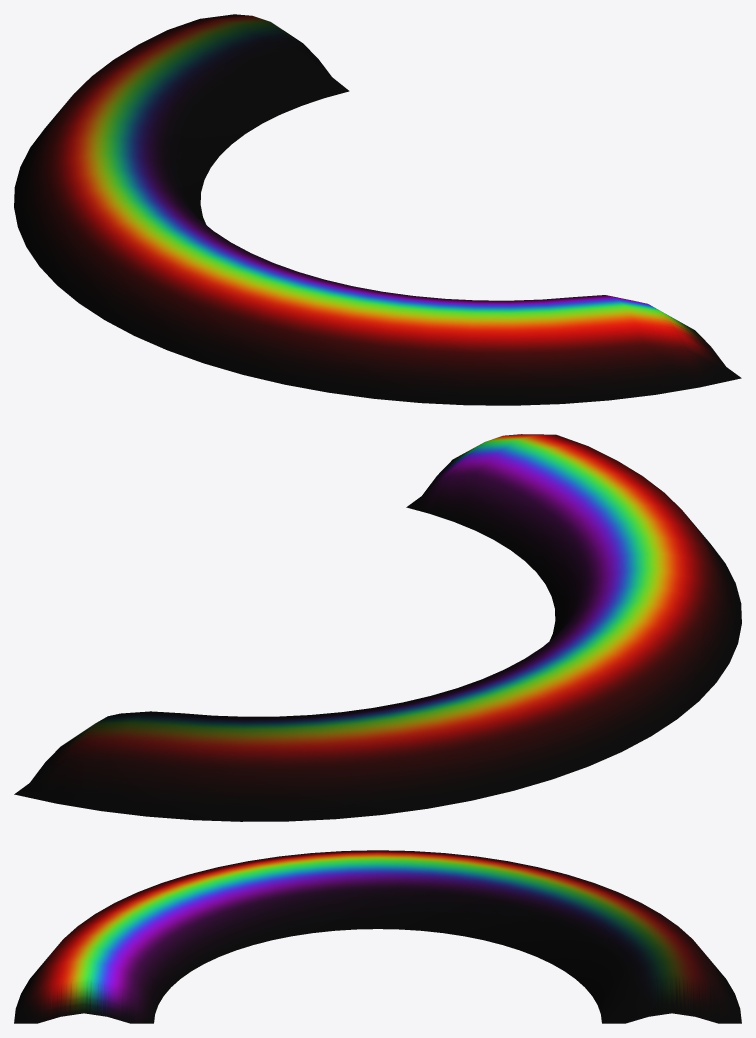
Rendered from RadM.fbx.
3 renders of one model, top to bottom at view 1: azimuth 30°, elevation 25°; view 2: azimuth 150°, elevation 25°; view 3: azimuth 270°, elevation 25°, orthographic. The views are drawn at different scales.
Parts seen in each view (by area): view 1: Plane001; view 2: Plane001; view 3: Plane001.
Boxes of the visible parts, x1,y1,x2,y2 form: Plane001: (14,14,741,405); Plane001: (14,434,741,821); Plane001: (14,850,741,1023).
Bounding box in the file's own units: 71.4 × 8.62 × 143.
Materials: 1 (1 with a texture image).
